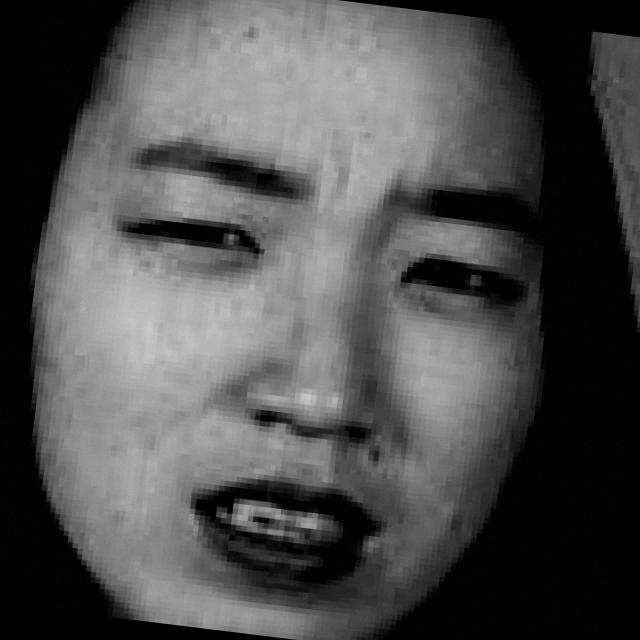disgust: (40, 18, 573, 640)
